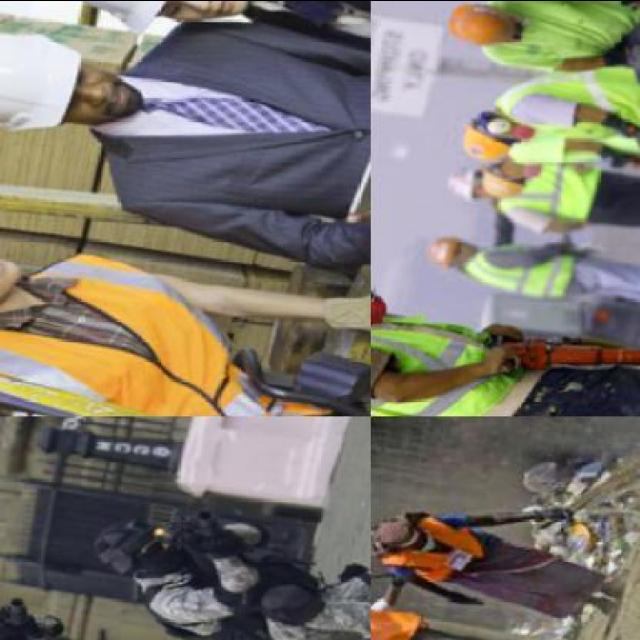helmet: (0, 23, 80, 138), (446, 0, 526, 56), (456, 116, 512, 162), (428, 219, 464, 277), (436, 166, 478, 203)
jacket: (466, 243, 580, 301)
